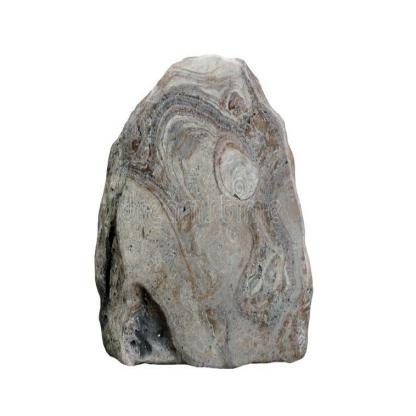Sedimentary_Limestone: (84, 49, 316, 372)
